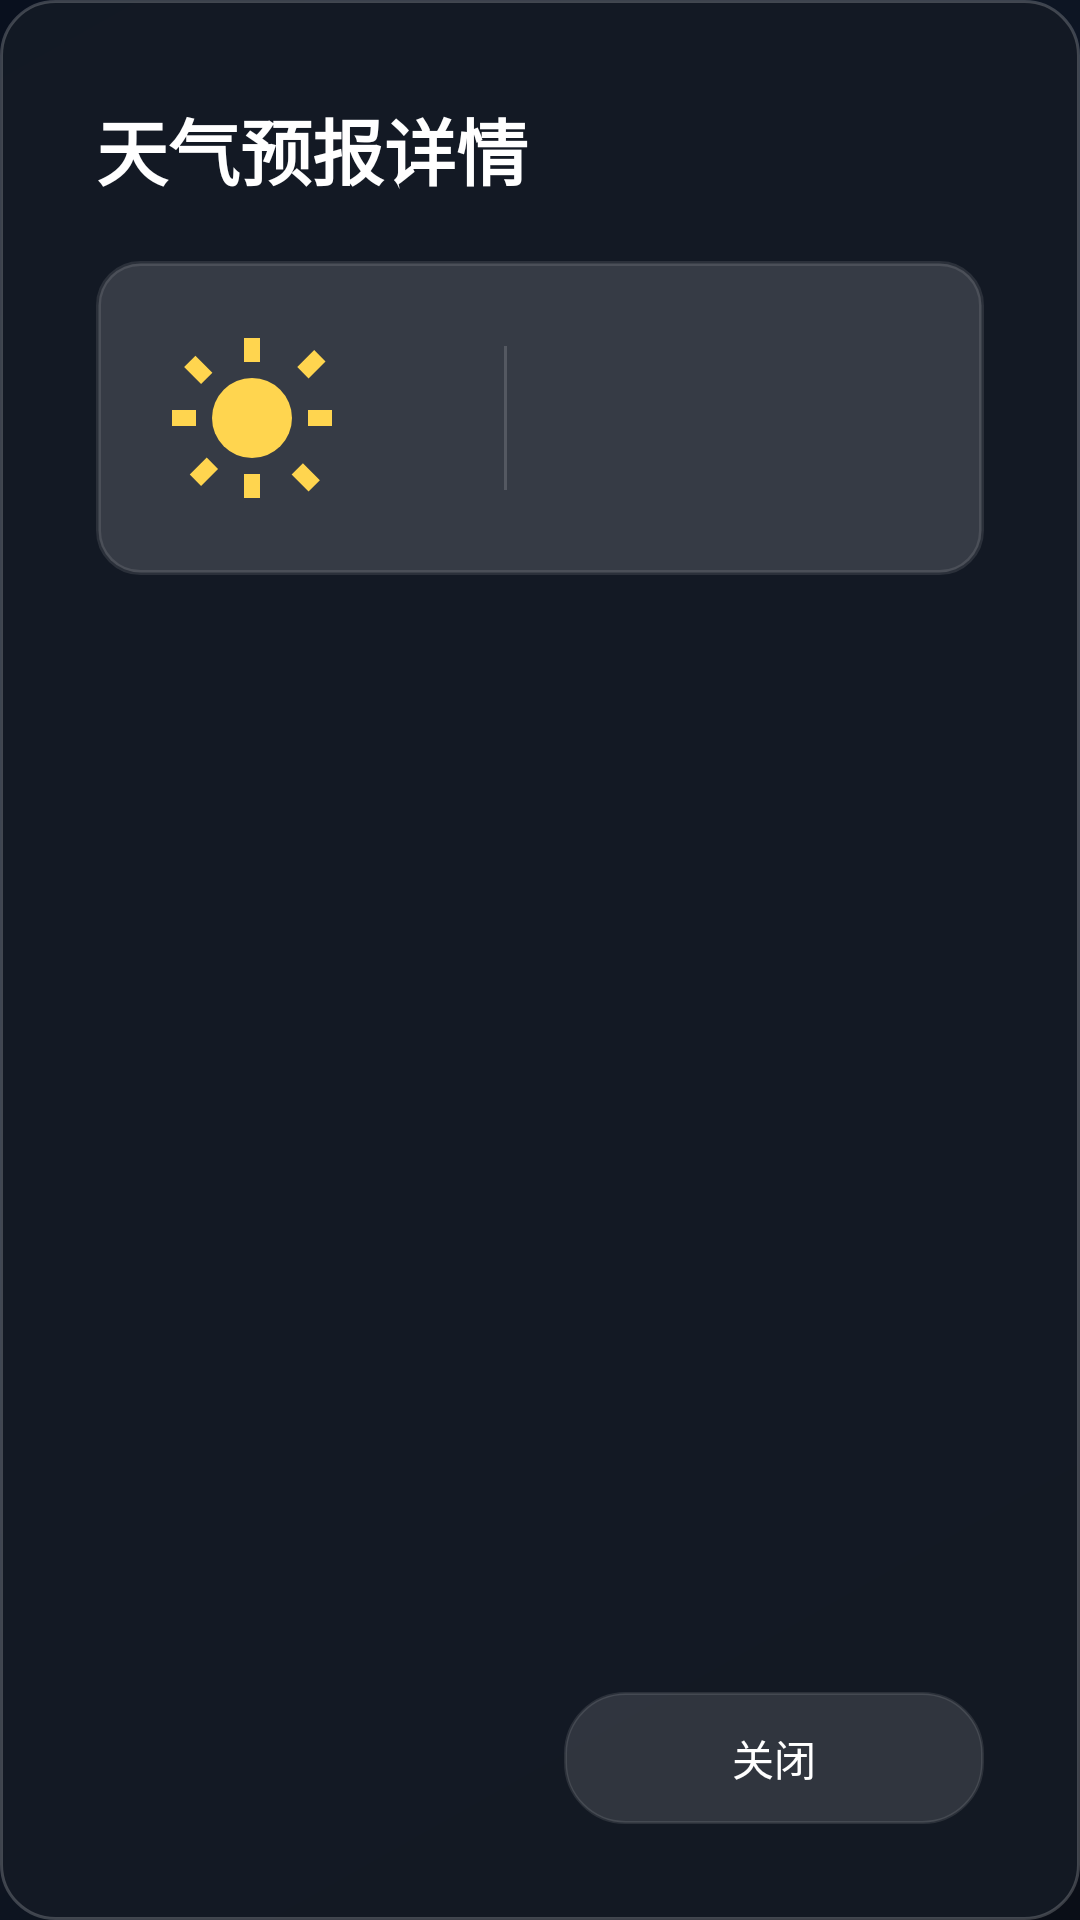

Screen size 1080×1920. Icon name, then its box in pixels as (x1, y1, x2, y2):
weather sunny: (172, 338, 332, 498)
